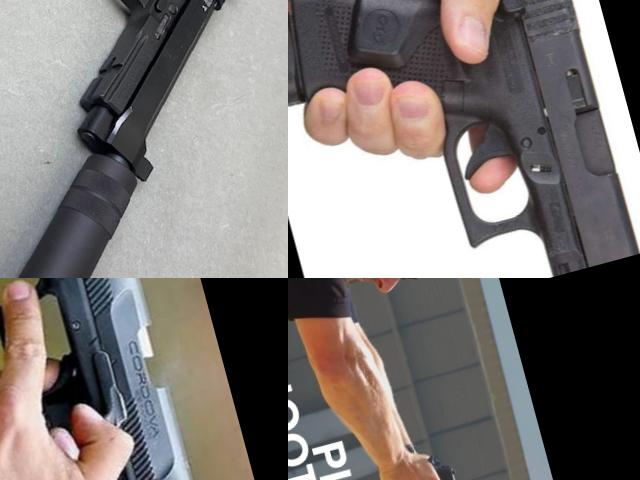handgun: (288, 0, 640, 278), (0, 0, 288, 204), (0, 278, 231, 480), (373, 445, 476, 480)
